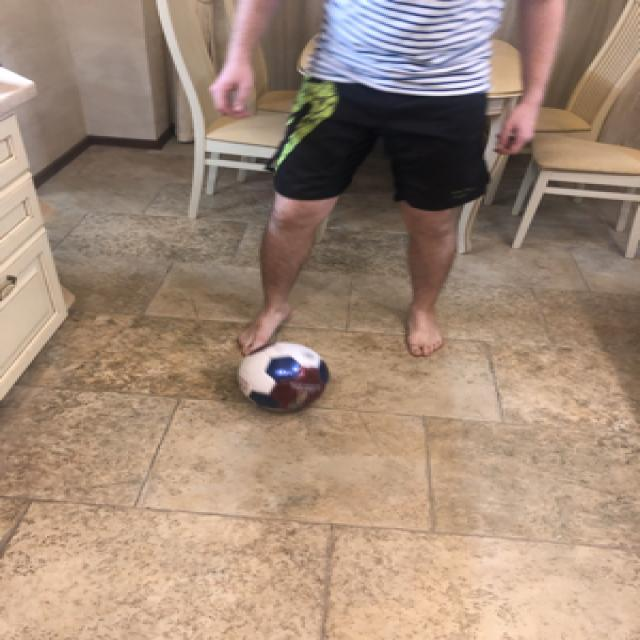soccer_ball: (232, 340, 330, 414)
